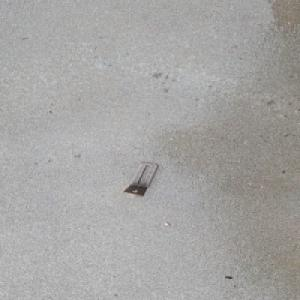MetalPart: (123, 162, 160, 197)
